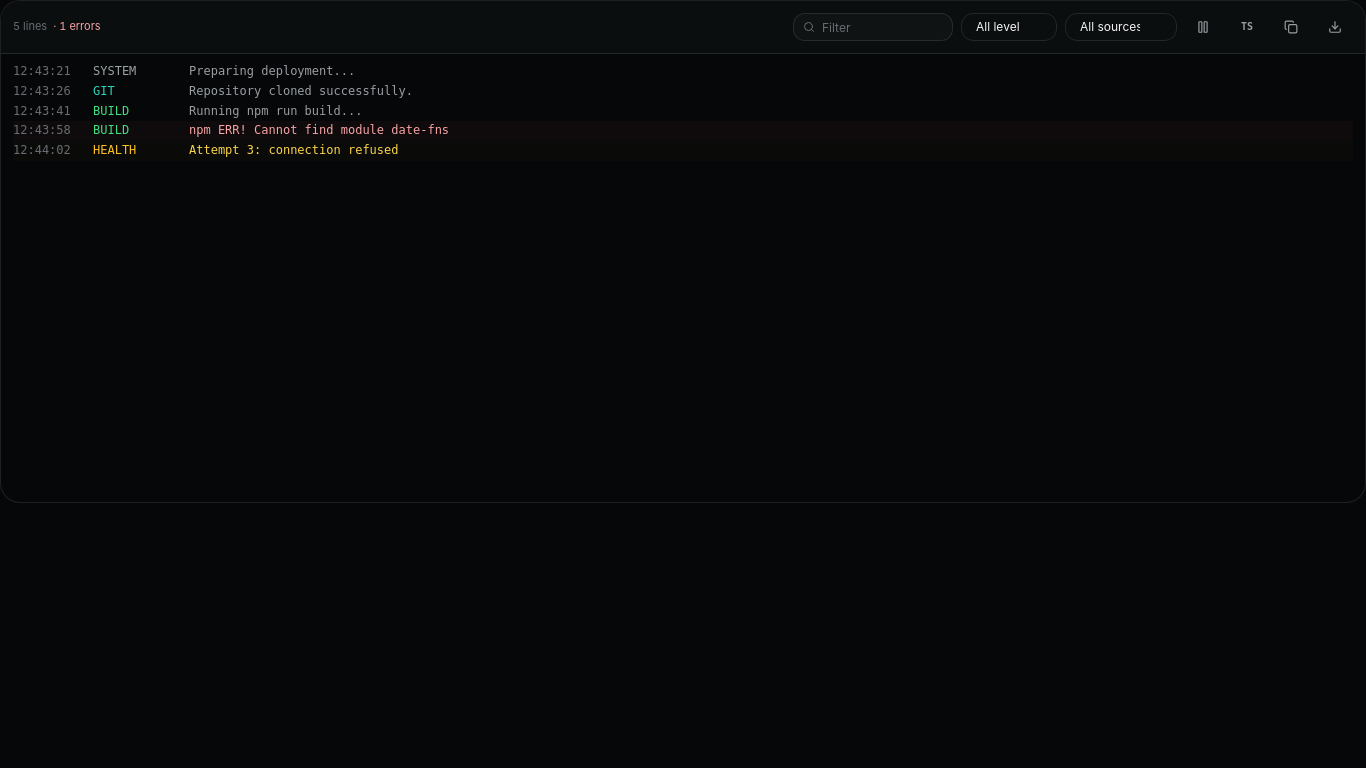
Test case: LogTerminal › filters by minimum level
Select "WARN+" in the dropdown named "Minimum level" at x=1009, y=27, box [961,13,1057,41]
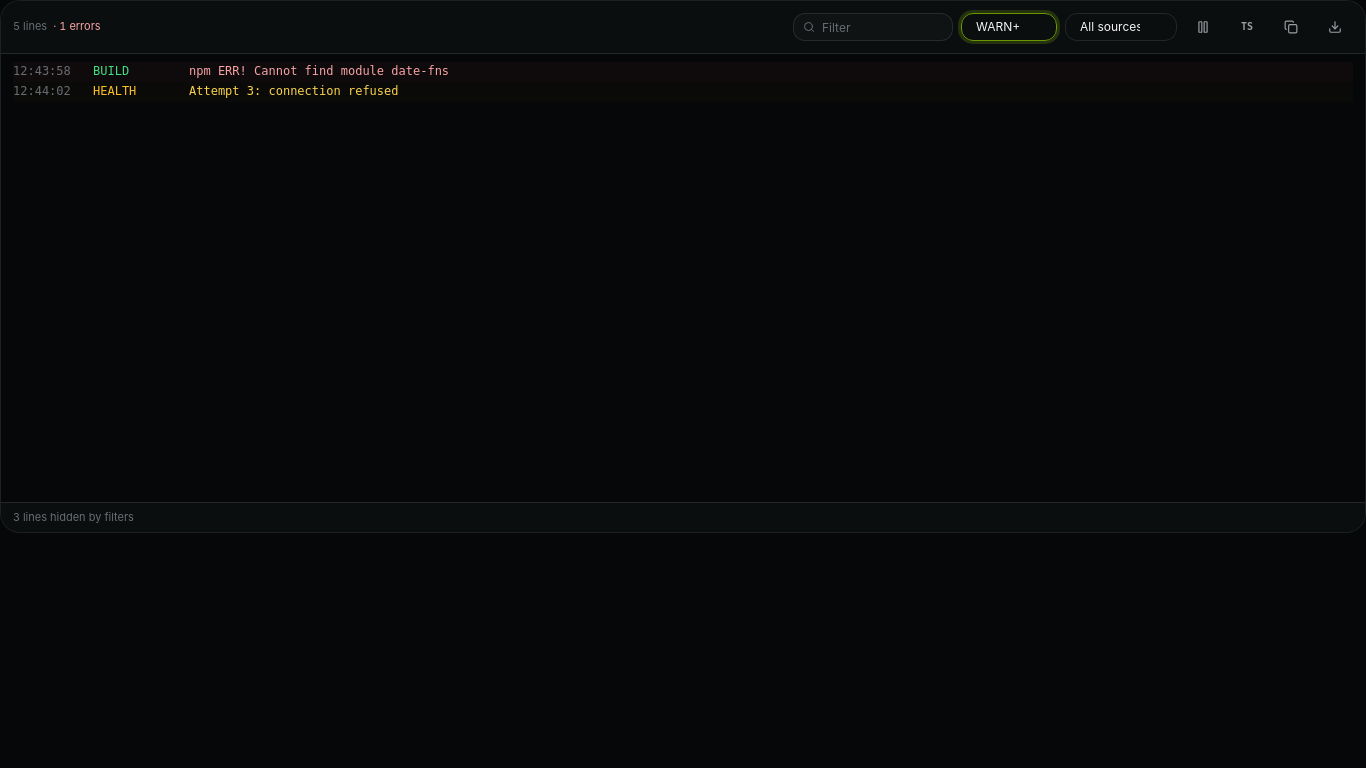
Expected: the text "npm ERR! Cannot find module date-fns" is shown, [189,62,1353,82]
Expected: the text "Repository cloned successfully." is gone
